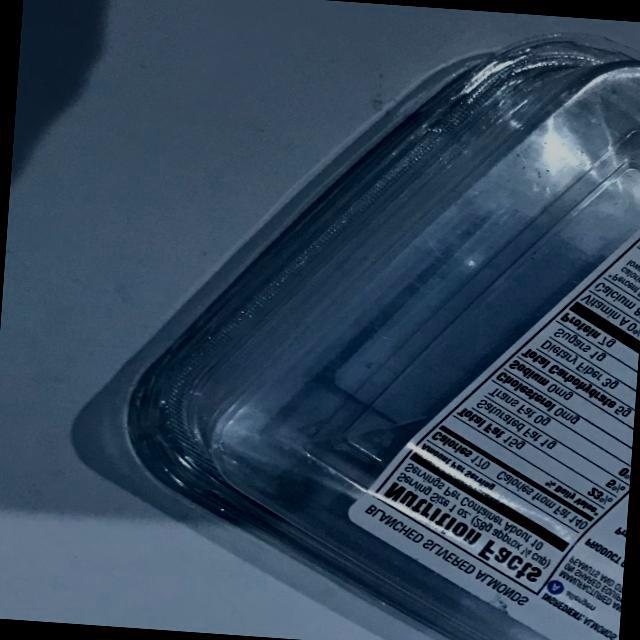plastic: (67, 34, 640, 640)
